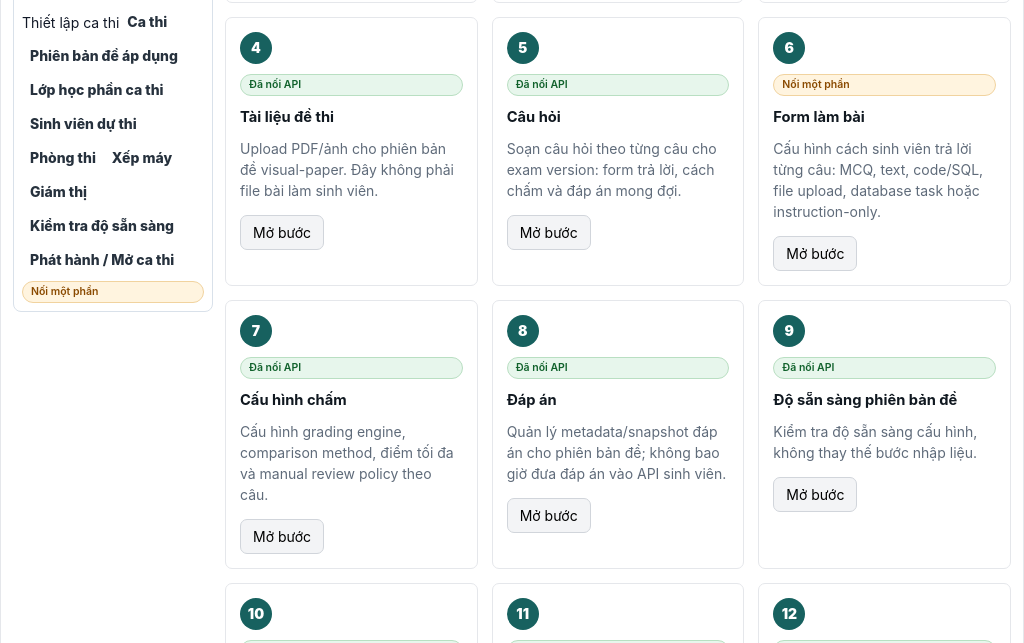
Test: ExamSetupPage API-client boundary › publish flow does not show final readiness success without backend readiness data
The image size is (1024, 643).
(page scrolled)
Click the button "Phát hành / Mở ca thi" at (102, 260), box [22,242,182,276]
(page scrolled)
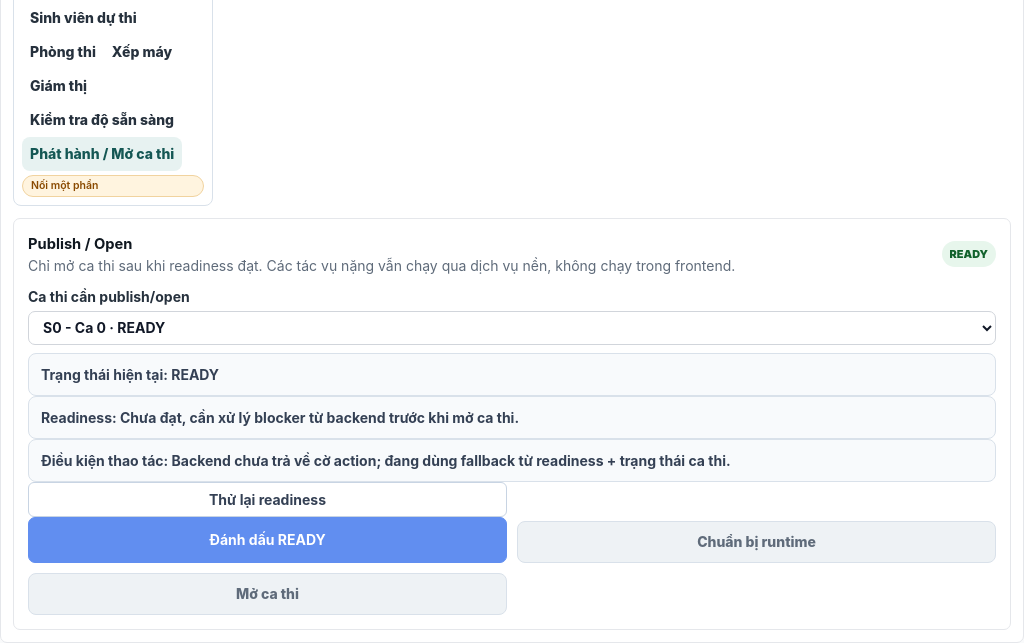
expect the button "Thử lại readiness" is shown: met, box [28,482,507,517]
expect the button "Chuẩn bị runtime" is disabled: met, box [517,521,996,563]
